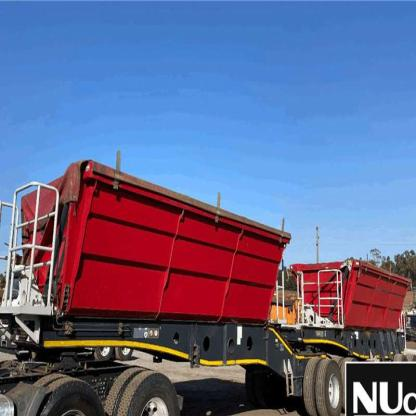dump_truck: (2, 145, 416, 416)
